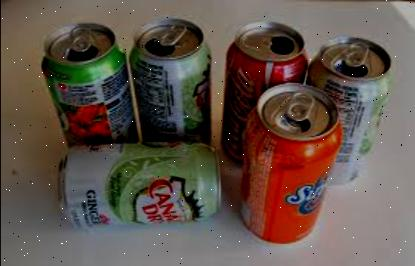Can: (241, 81, 345, 246), (58, 142, 221, 229), (308, 37, 394, 182), (225, 22, 309, 163), (40, 24, 136, 145), (129, 21, 212, 144)
